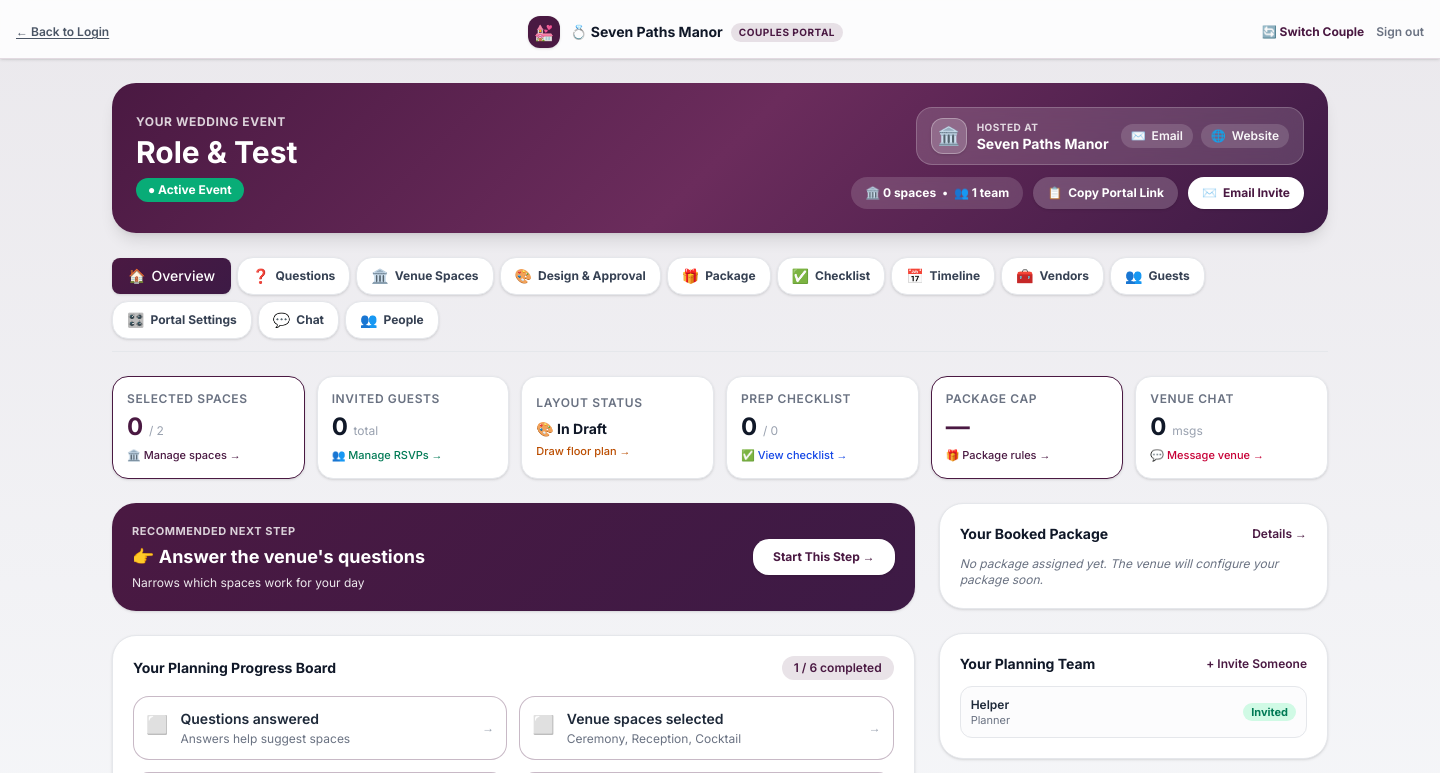
CouplesPortal › lets a planner manage guests but not portal settings
Click the tab "👥 Guests" at (1157, 276), box [1110, 257, 1205, 295]
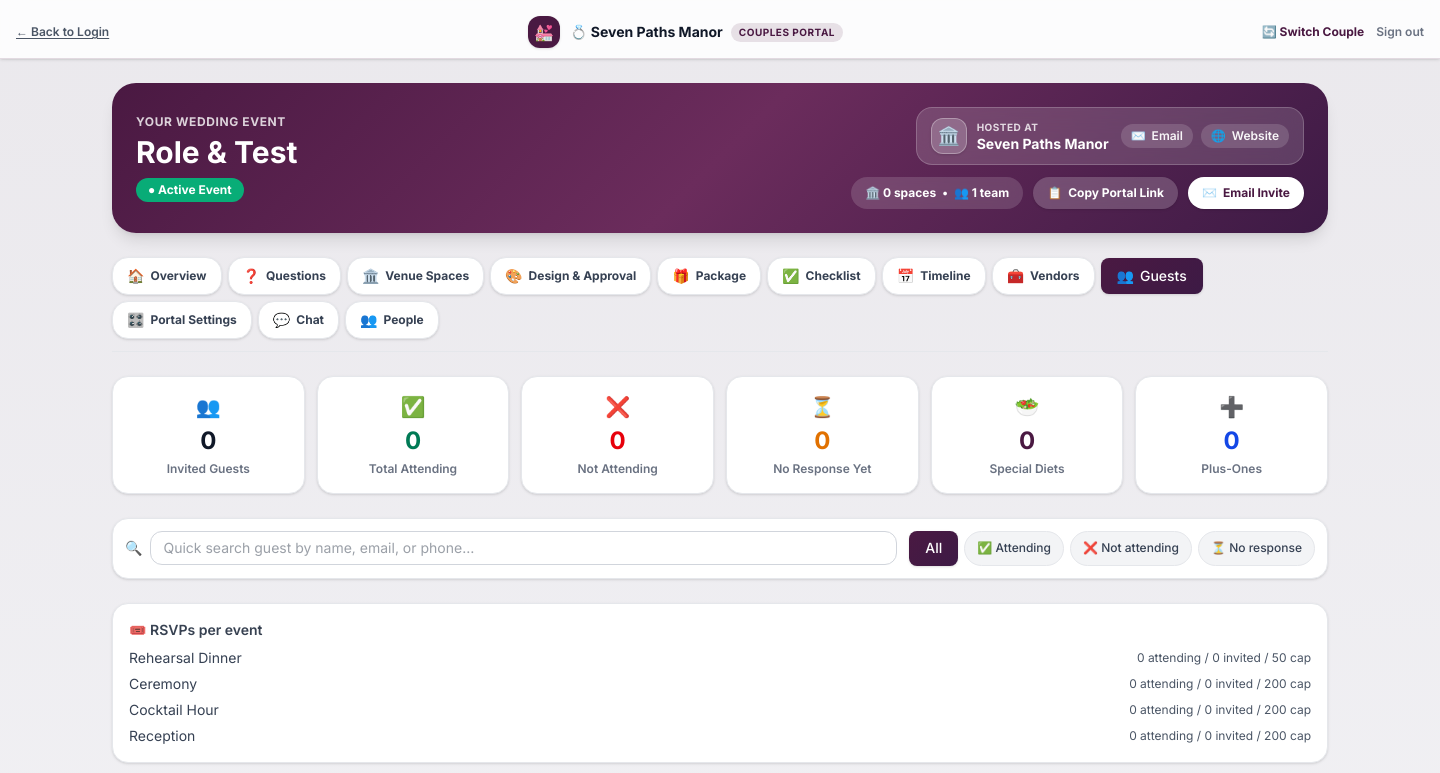
Click the tab "🎛️ Portal Settings" at (182, 320), box [112, 301, 252, 339]
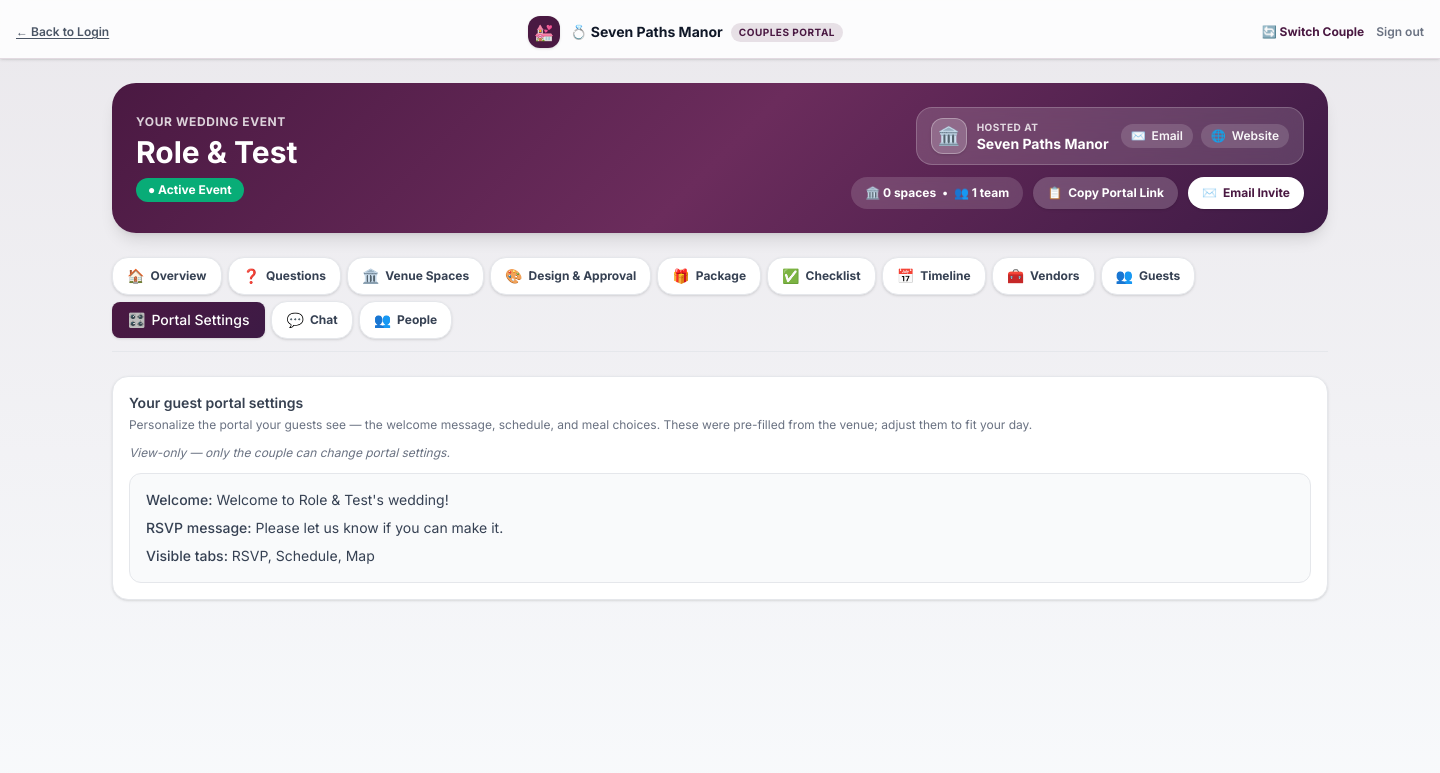
Check: the text "View-only — only the couple can change portal settings." is shown, box [129, 445, 450, 460]
